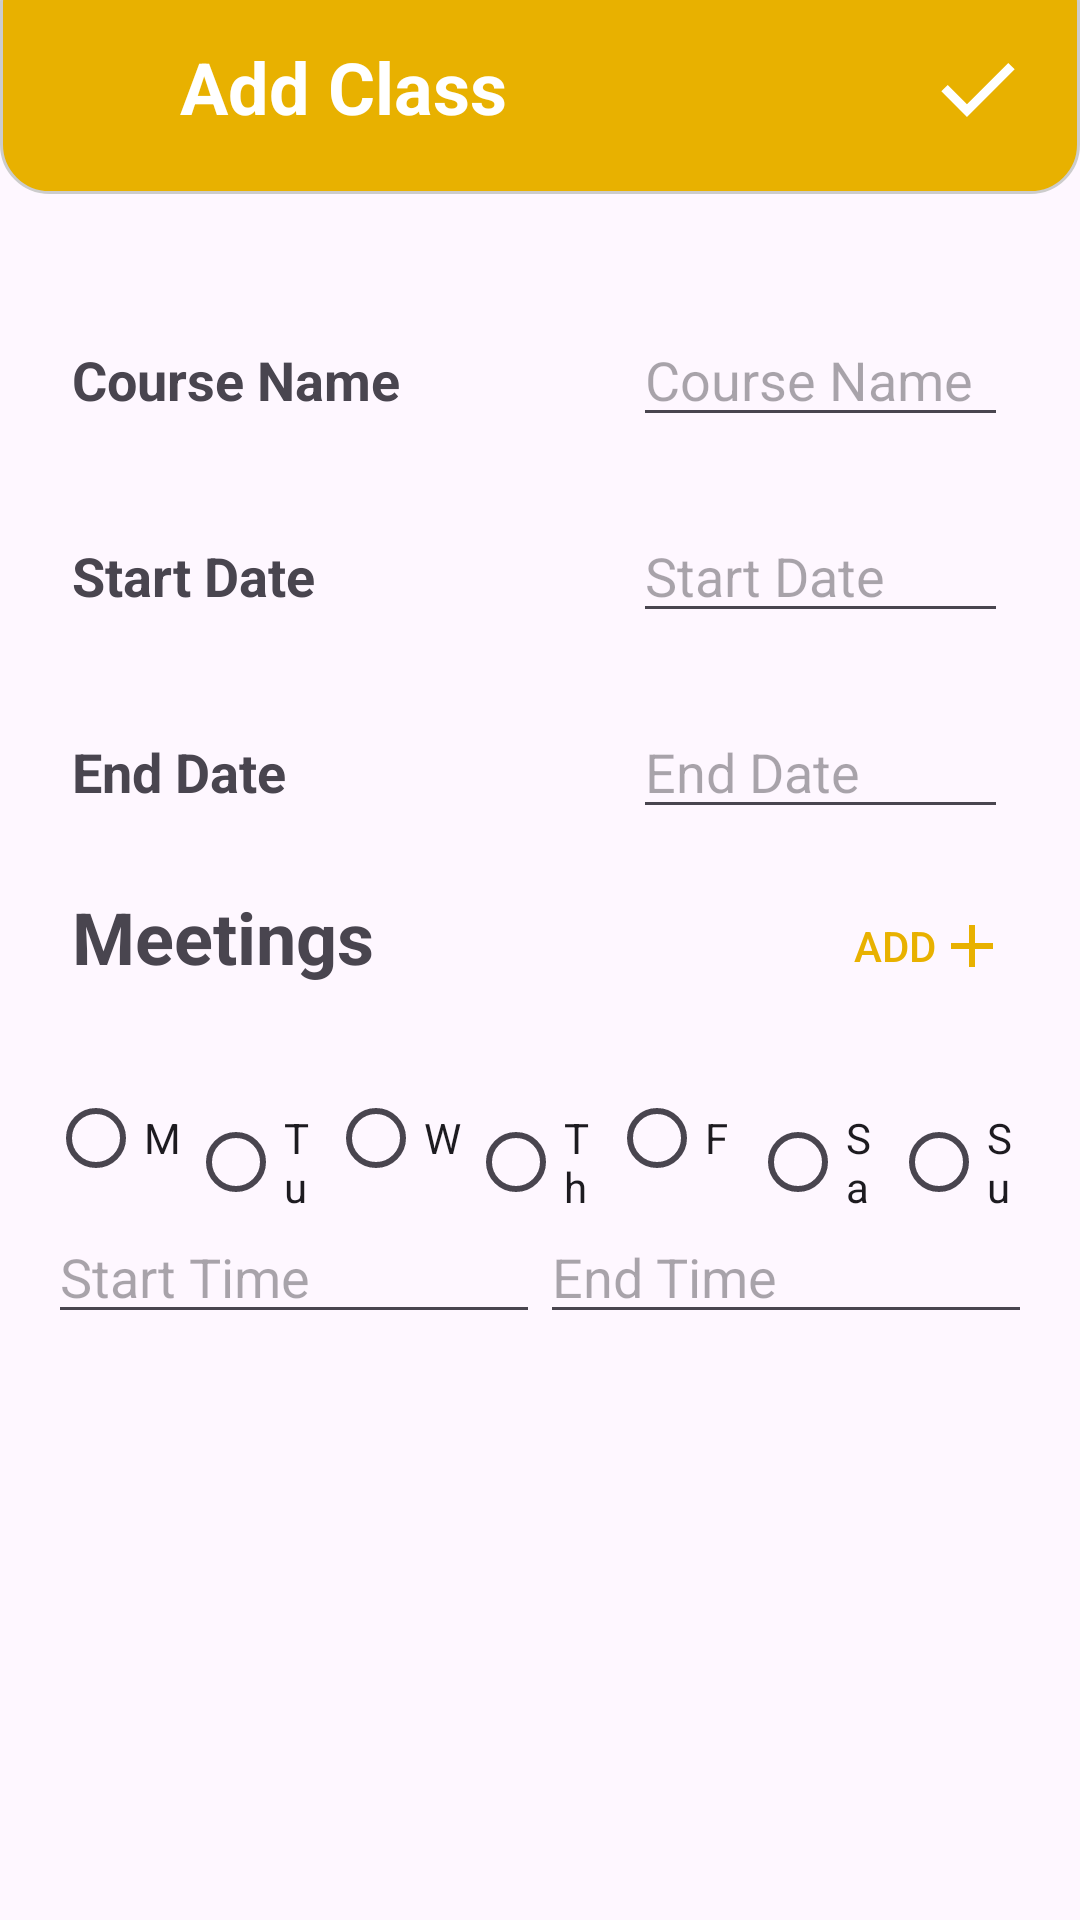

Where to tap for icons on this 1080*1920 app screen, as [x,y]:
check: [978,90]
